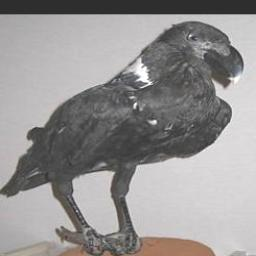Crow: (1, 19, 248, 256)
